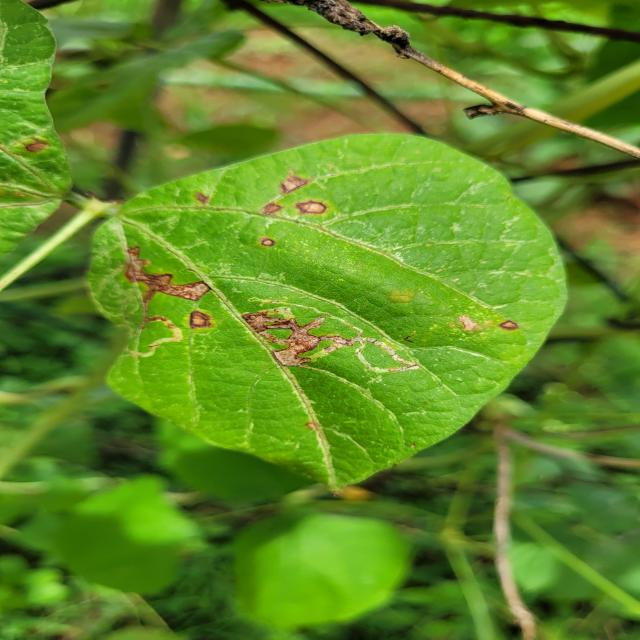Dolicos bean_cercospora leaf spot: (88, 132, 571, 497)
Dolicos bean_healthy: (26, 475, 224, 596), (232, 513, 402, 632)
